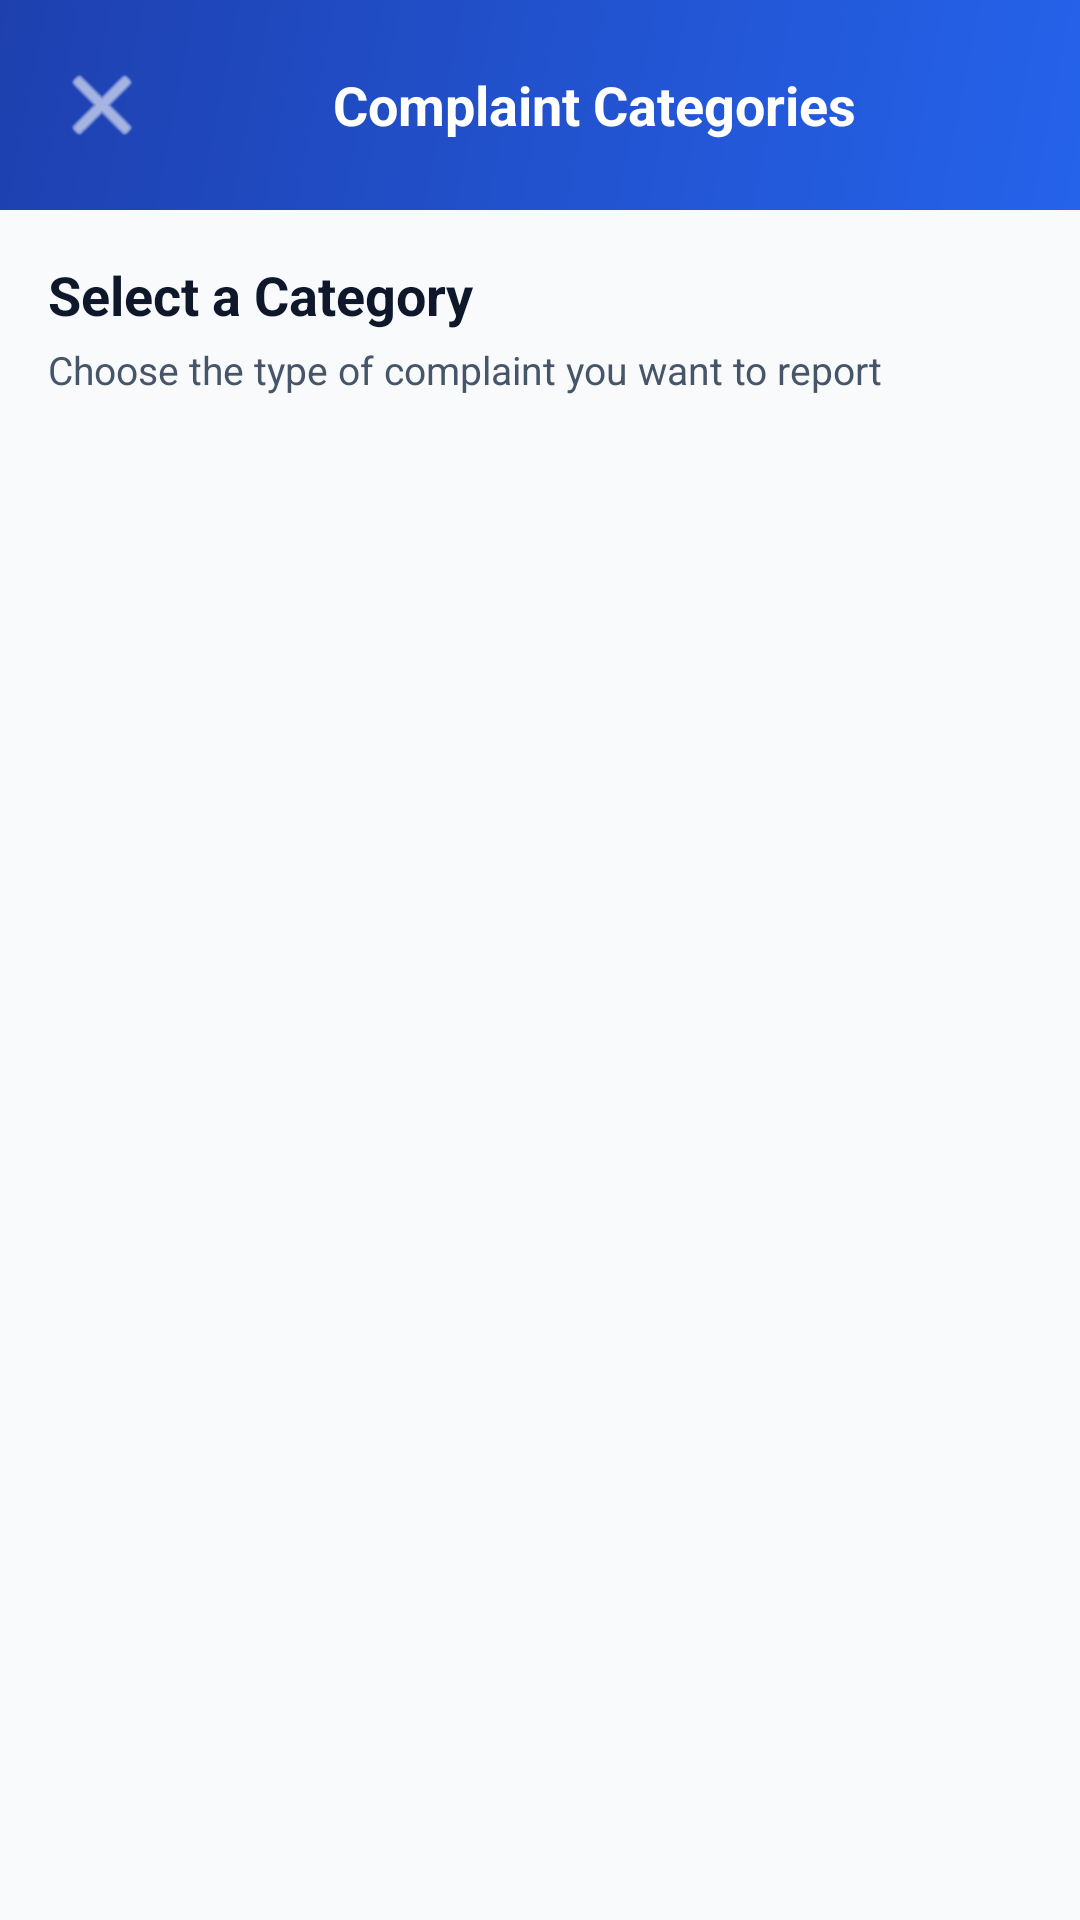

Icons on this 1080px×1920px Android screen, each with the point to tap as point (x, y):
close clear cancel: point (102, 105)
